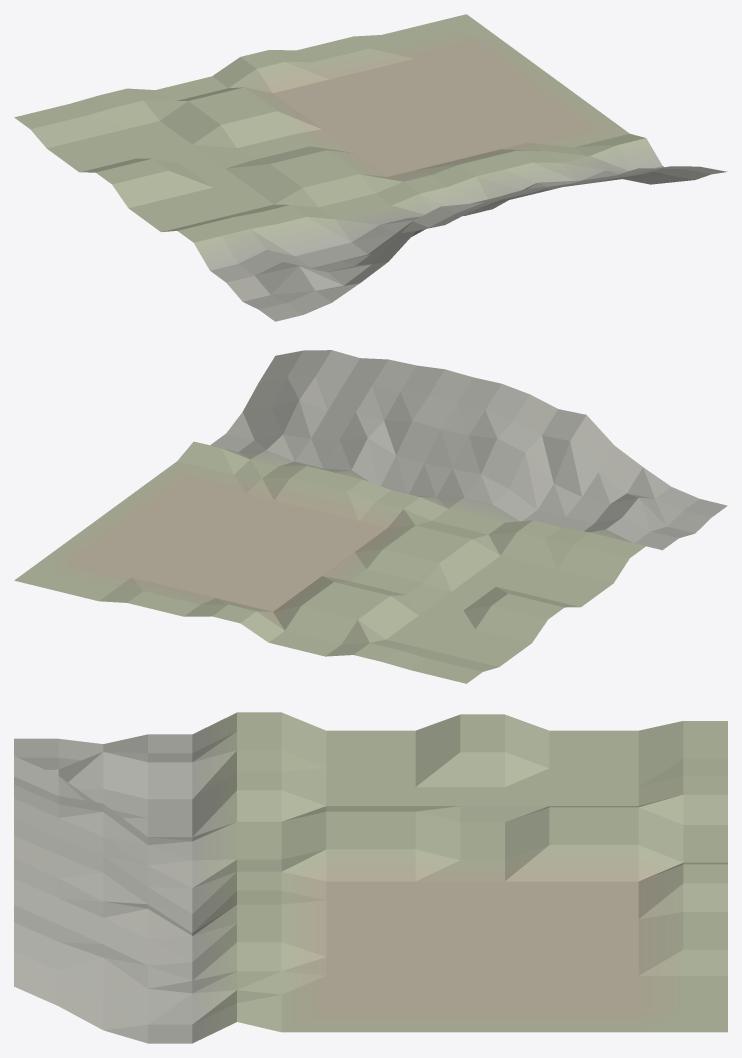
The picture shows the model from 3 angles, top to bottom: view 1: azimuth 30°, elevation 25°; view 2: azimuth 150°, elevation 25°; view 3: azimuth 270°, elevation 25°; orthographic projection. The views are drawn at different scales.
Bounding box in the file's own units: 32 × 4.83 × 32.
